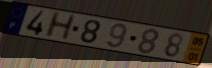4: (24, 9, 46, 37)
8: (137, 28, 161, 55), (163, 33, 185, 58), (80, 19, 102, 44)
9: (106, 23, 130, 50)
H: (42, 11, 78, 41)
